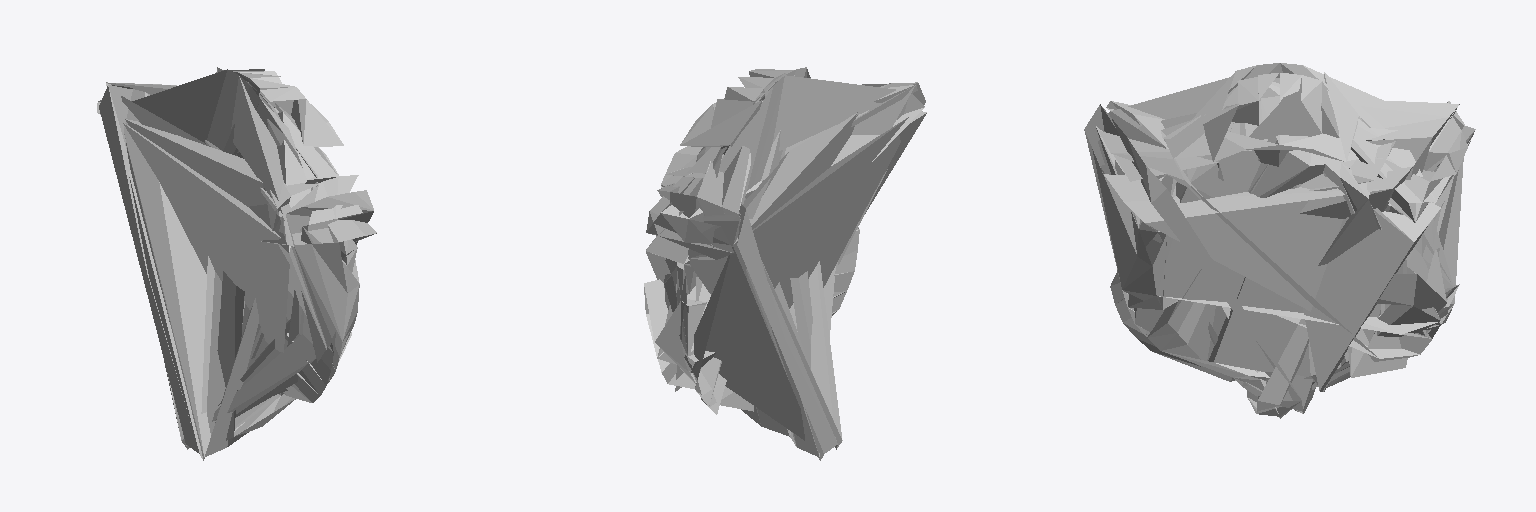
File: Dash Ring.obj
3 views of the same model, side by side, from view 1: azimuth 30°, elevation 25°; view 2: azimuth 150°, elevation 25°; view 3: azimuth 270°, elevation 25° (orthographic).
Parts seen in each view (by area): view 1: Object01, Object02; view 2: Object01, Object02; view 3: Object01, Object02.
Boxes of the visible parts, x1,y1,x2,y2 form: Object01: [97, 67, 376, 460]; Object02: [260, 107, 359, 394]; Object01: [644, 67, 926, 460]; Object02: [664, 100, 907, 362]; Object01: [1084, 63, 1475, 418]; Object02: [1098, 96, 1460, 381].
Size of the model in its own units: 178 by 499 by 479.